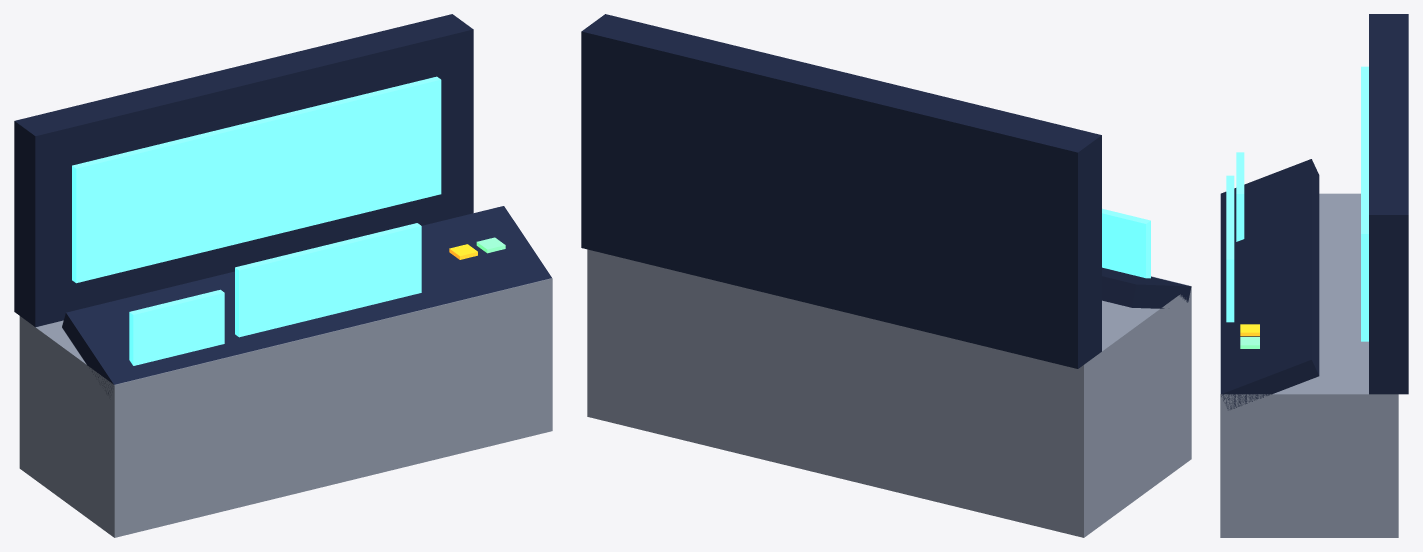
File: stationpack-control-console.glb
3 renders of one model, left to right at view 1: azimuth 30°, elevation 25°; view 2: azimuth 150°, elevation 25°; view 3: azimuth 270°, elevation 25°, orthographic. The views are drawn at different scales.
Parts seen in each view (by area): view 1: control_console; view 2: control_console; view 3: control_console.
Boxes of the visible parts, bbox=[...] form: control_console: bbox=[14, 14, 552, 537]; control_console: bbox=[581, 14, 1191, 537]; control_console: bbox=[1220, 14, 1408, 537].
Size of the model in its own units: 2.4 by 1.8 by 0.95.
